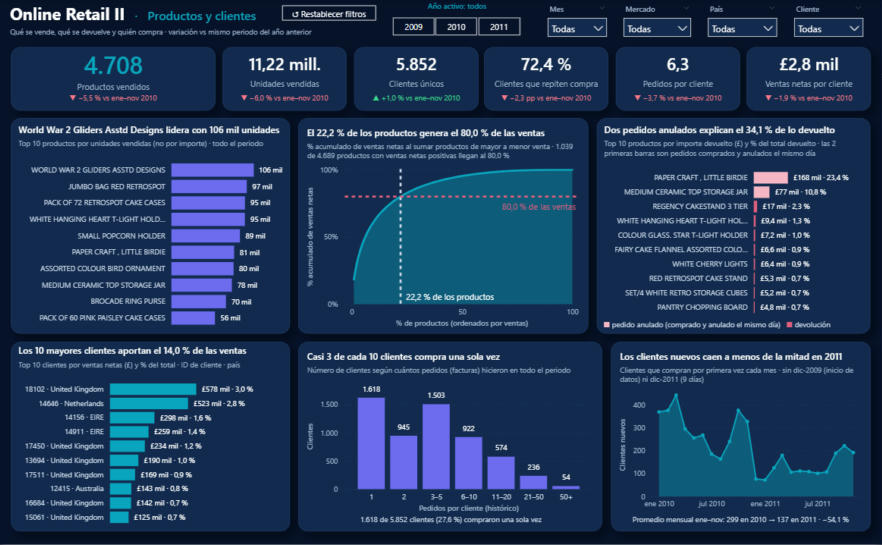

Layout of this report page (visuals, bound fields, positions):
{"tool":"powerbi","page":{"name":"Productos y clientes","canvas":[1280,788],"ordinal":1},"visuals":[{"type":"textbox","box":[12,0,540,64],"z":0},{"type":"card","fields":{"Values":["fact_ventas.Año seleccionado"]},"box":[548,2,232,20],"z":1000},{"type":"slicer","fields":{"Values":["dim_fecha.anio"]},"box":[548,22,232,36],"z":2000},{"type":"actionButton","box":[410,8,136,22],"z":3000},{"type":"slicer","fields":{"Values":["dim_fecha.mes_nombre"]},"box":[788,4,104,56],"z":4000},{"type":"slicer","fields":{"Values":["dim_pais.mercado"]},"box":[898,4,116,56],"z":5000},{"type":"slicer","fields":{"Values":["dim_pais.pais"]},"box":[1020,4,118,56],"z":6000},{"type":"slicer","fields":{"Values":["dim_cliente.cliente_pais"]},"box":[1144,4,118,56],"z":7000},{"type":"card","fields":{"Values":["fact_ventas.Txt Productos Vendidos"]},"box":[18,68,296,92],"z":8000},{"type":"card","fields":{"Values":["fact_ventas.Var Productos Vendidos"]},"box":[18,130,296,28],"z":9000},{"type":"card","fields":{"Values":["fact_ventas.Txt Unidades Vendidas"]},"box":[324,68,180,92],"z":10000},{"type":"card","fields":{"Values":["fact_ventas.Var Unidades Vendidas"]},"box":[324,130,180,28],"z":11000},{"type":"card","fields":{"Values":["fact_ventas.Txt Clientes Únicos"]},"box":[514,68,180,92],"z":12000},{"type":"card","fields":{"Values":["fact_ventas.Var Clientes Unicos"]},"box":[514,130,180,28],"z":13000},{"type":"card","fields":{"Values":["fact_ventas.Txt % Clientes Recurrentes"]},"box":[703,68,180,92],"z":14000},{"type":"card","fields":{"Values":["fact_ventas.Var Clientes Recurrentes"]},"box":[703,130,180,28],"z":15000},{"type":"card","fields":{"Values":["fact_ventas.Txt Facturas por Cliente"]},"box":[893,68,180,92],"z":16000},{"type":"card","fields":{"Values":["fact_ventas.Var Facturas por Cliente"]},"box":[893,130,180,28],"z":17000},{"type":"card","fields":{"Values":["fact_ventas.Txt Ventas por Cliente"]},"box":[1082,68,180,92],"z":18000},{"type":"card","fields":{"Values":["fact_ventas.Var Ventas por Cliente"]},"box":[1082,130,180,28],"z":19000},{"type":"clusteredBarChart","fields":{"Category":["dim_producto.descripcion"],"Y":["fact_ventas.Unidades Top10 Producto"]},"box":[18,172,404,312],"z":20000},{"type":"areaChart","fields":{"Category":["dim_producto.percentil_producto"],"Y":["fact_ventas.% Ventas Acumulado"]},"box":[434,172,420,312],"z":21000},{"type":"clusteredBarChart","fields":{"Category":["dim_producto.descripcion"],"Y":["fact_ventas.Devoluciones Top10 Producto"]},"box":[866,172,396,312],"z":22000},{"type":"textbox","box":[876,460,376,24],"z":23000},{"type":"clusteredBarChart","fields":{"Category":["dim_cliente.cliente_pais"],"Y":["fact_ventas.Ventas Netas Top10 Cliente"]},"box":[18,496,404,274],"z":24000},{"type":"clusteredColumnChart","fields":{"Category":["dim_cliente.rango_compras"],"Y":["fact_ventas.Clientes Únicos"]},"box":[434,496,440,274],"z":25000},{"type":"card","fields":{"Values":["fact_ventas.Nota histograma"]},"box":[444,746,420,18],"z":26000},{"type":"areaChart","fields":{"Category":["dim_fecha.inicio_mes"],"Y":["fact_ventas.Clientes Nuevos"]},"box":[886,496,376,274],"z":27000},{"type":"card","fields":{"Values":["fact_ventas.Nota clientes nuevos"]},"box":[896,746,356,18],"z":28000}]}

Visuals, with their boxes in screenshot pixels (x1, y1, x2, y2), scaled from the page's 1280x788 canvas onto the 882x545 screenshot:
textbox: (8,0,380,44)
card - fact_ventas.Año seleccionado: (378,1,537,15)
slicer - dim_fecha.anio: (378,15,537,40)
actionButton: (283,6,376,21)
slicer - dim_fecha.mes_nombre: (543,3,615,41)
slicer - dim_pais.mercado: (619,3,699,41)
slicer - dim_pais.pais: (703,3,784,41)
slicer - dim_cliente.cliente_pais: (788,3,870,41)
card - fact_ventas.Txt Productos Vendidos: (12,47,216,111)
card - fact_ventas.Var Productos Vendidos: (12,90,216,109)
card - fact_ventas.Txt Unidades Vendidas: (223,47,347,111)
card - fact_ventas.Var Unidades Vendidas: (223,90,347,109)
card - fact_ventas.Txt Clientes Únicos: (354,47,478,111)
card - fact_ventas.Var Clientes Unicos: (354,90,478,109)
card - fact_ventas.Txt % Clientes Recurrentes: (484,47,608,111)
card - fact_ventas.Var Clientes Recurrentes: (484,90,608,109)
card - fact_ventas.Txt Facturas por Cliente: (615,47,739,111)
card - fact_ventas.Var Facturas por Cliente: (615,90,739,109)
card - fact_ventas.Txt Ventas por Cliente: (746,47,870,111)
card - fact_ventas.Var Ventas por Cliente: (746,90,870,109)
clusteredBarChart - dim_producto.descripcion x fact_ventas.Unidades Top10 Producto: (12,119,291,335)
areaChart - dim_producto.percentil_producto x fact_ventas.% Ventas Acumulado: (299,119,588,335)
clusteredBarChart - dim_producto.descripcion x fact_ventas.Devoluciones Top10 Producto: (597,119,870,335)
textbox: (604,318,863,335)
clusteredBarChart - dim_cliente.cliente_pais x fact_ventas.Ventas Netas Top10 Cliente: (12,343,291,533)
clusteredColumnChart - dim_cliente.rango_compras x fact_ventas.Clientes Únicos: (299,343,602,533)
card - fact_ventas.Nota histograma: (306,516,595,528)
areaChart - dim_fecha.inicio_mes x fact_ventas.Clientes Nuevos: (611,343,870,533)
card - fact_ventas.Nota clientes nuevos: (617,516,863,528)
